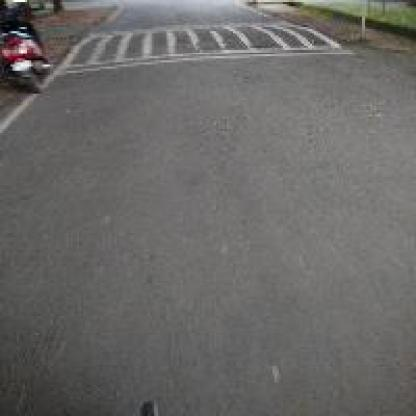Speed Bump: (54, 15, 356, 77)
